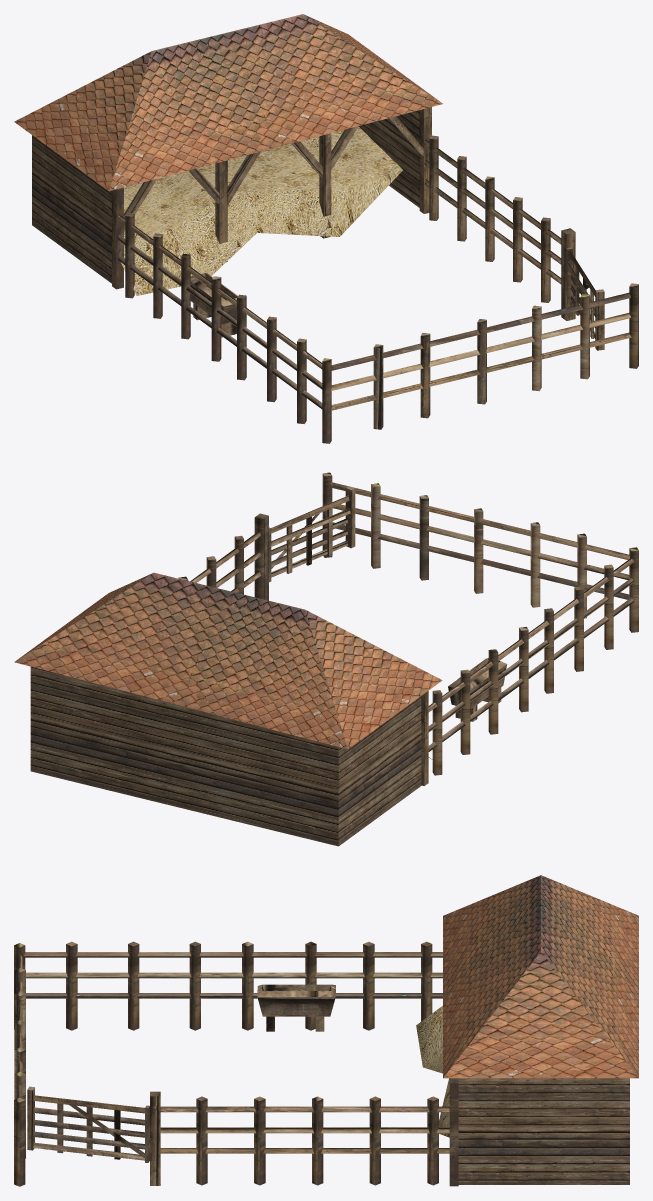
The model's file is building_stable.glb.
The picture shows the model from 3 angles, top to bottom: view 1: azimuth 30°, elevation 25°; view 2: azimuth 150°, elevation 25°; view 3: azimuth 270°, elevation 25°; orthographic projection. The views are drawn at different scales.
Visible parts, largest first — view 1: building_stable; view 2: building_stable; view 3: building_stable.
Boxes of the visible parts, x1,y1,x2,y2 form: building_stable: (14,14,638,443); building_stable: (14,472,638,846); building_stable: (14,875,638,1186).
Bounding box in the file's own units: 9.98 × 5.35 × 15.63.
Materials: 3 (3 with a texture image).
